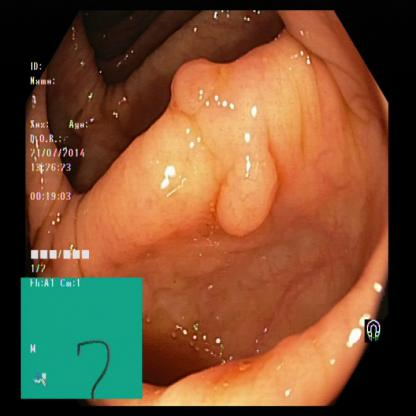Labels: (27, 58, 114, 276), (25, 277, 145, 397), (353, 302, 392, 364)
Polyps: (212, 152, 295, 239), (158, 53, 244, 136)
